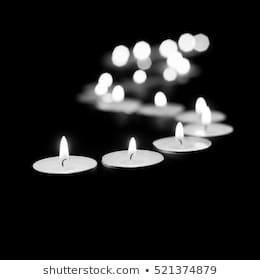fire: (57, 133, 71, 161), (126, 134, 137, 157)
